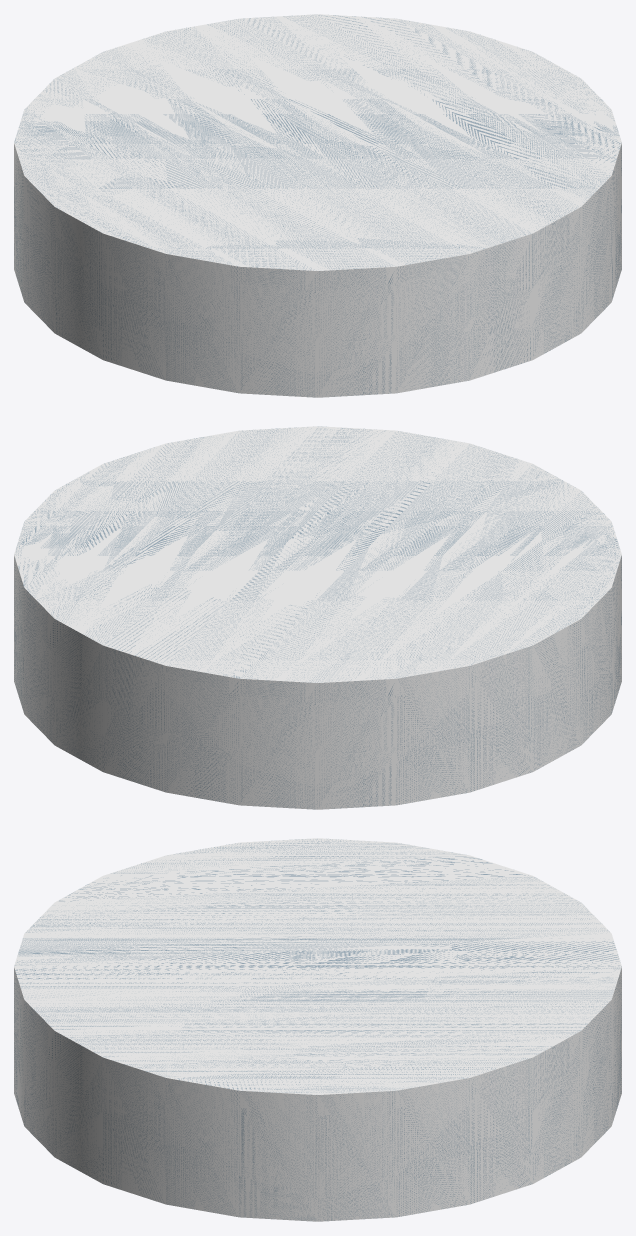
3 views of the same model, one above another, from view 1: azimuth 30°, elevation 25°; view 2: azimuth 150°, elevation 25°; view 3: azimuth 270°, elevation 25° (orthographic).
Visible parts, largest first — view 1: Model; view 2: Model; view 3: Model.
Part boxes in pixels (x1,y1,x2,y2): Model: [14, 14, 621, 397]; Model: [14, 426, 621, 809]; Model: [14, 838, 621, 1221].
Bounding box in the file's own units: 146 × 33.62 × 146.
